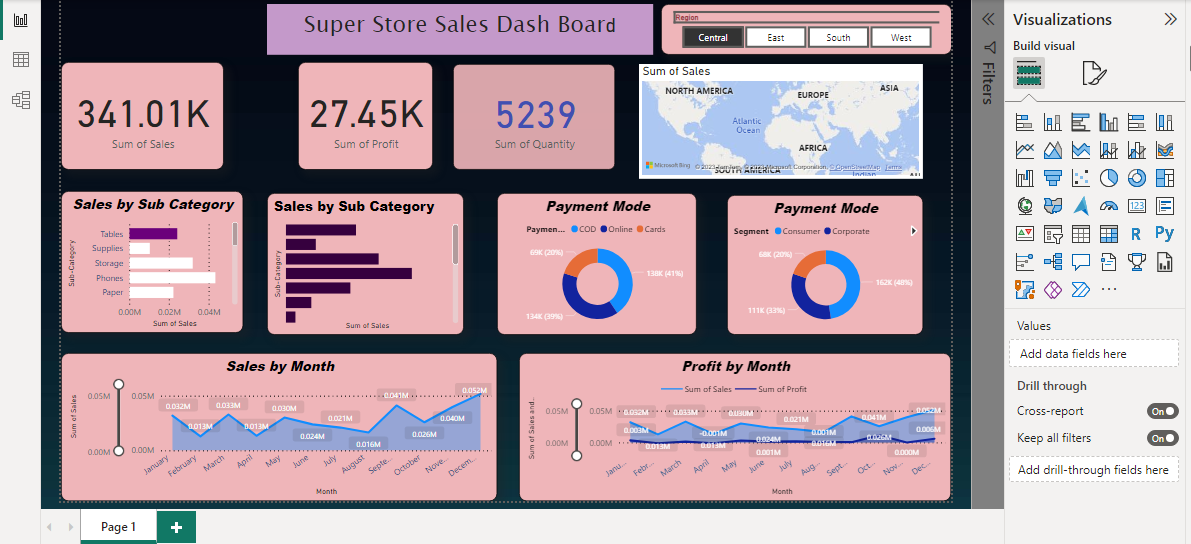

The dashboard page shown, as its layout file describes it:
{"tool":"powerbi","page":{"name":"Page 1","canvas":[1280,720],"ordinal":0},"visuals":[{"type":"clusteredBarChart","title":"Sales by Sub Category","fields":{"Category":["SuperStore_Sales_Dataset.Sub-Category"],"Y":["Sum(SuperStore_Sales_Dataset.Sales)"]},"box":[296,277.4,283.1,204.1],"z":0},{"type":"clusteredBarChart","title":"Sales by Sub Category","fields":{"Category":["SuperStore_Sales_Dataset.Sub-Category"],"Y":["Sum(SuperStore_Sales_Dataset.Sales)"]},"box":[0,274.5,261.6,204.1],"z":1000},{"type":"card","title":"Sales ship mode ","fields":{"Values":["Sum(SuperStore_Sales_Dataset.Sales)"]},"box":[0,89.1,234.3,155.2],"z":2000},{"type":"areaChart","title":"Sales by Month","fields":{"Category":["SuperStore_Sales_Dataset.Order Date.Variation.Date Hierarchy.Month"],"Y":["Sum(SuperStore_Sales_Dataset.Sales)"]},"box":[0,507.3,626.6,212.7],"z":3000},{"type":"areaChart","title":" Profit by Month","fields":{"Category":["SuperStore_Sales_Dataset.Order Date.Variation.Date Hierarchy.Month"],"Y":["Sum(SuperStore_Sales_Dataset.Sales)","Sum(SuperStore_Sales_Dataset.Profit)"]},"box":[658.2,507.3,620.8,212.7],"z":4000},{"type":"donutChart","title":" Payment Mode","fields":{"Y":["Sum(SuperStore_Sales_Dataset.Sales)"],"Category":["SuperStore_Sales_Dataset.Payment Mode"]},"box":[626.6,277.4,287.4,204.1],"z":5000},{"type":"donutChart","title":" Payment Mode","fields":{"Y":["Sum(SuperStore_Sales_Dataset.Sales)"],"Category":["SuperStore_Sales_Dataset.Segment"]},"box":[957.1,280.2,281.7,201.2],"z":6000},{"type":"slicer","fields":{"Values":["SuperStore_Sales_Dataset.Region"]},"box":[862.3,5.7,418.2,73.3],"z":7000},{"type":"card","fields":{"Values":["Sum(SuperStore_Sales_Dataset.Profit)"]},"box":[340.6,89.1,194,155.2],"z":8000},{"type":"card","fields":{"Values":["Sum(SuperStore_Sales_Dataset.Quantity)"]},"box":[563.4,92,232.8,152.3],"z":9000},{"type":"textbox","box":[296,5.7,554.7,73.3],"z":10000},{"type":"map","fields":{"Size":["Sum(SuperStore_Sales_Dataset.Sales)"]},"box":[830.7,92,408.1,165.3],"z":11000}]}

Visuals, with their boxes on the page's 1280x720 design canvas (x1, y1, x2, y2). These are canvas units, not pixel positions in the 1191x544 screenshot, which may show the page scaled, cropped or inside an application window:
"Sales by Sub Category" clusteredBarChart: region(296, 277, 579, 482)
"Sales by Sub Category" clusteredBarChart: region(0, 274, 262, 479)
"Sales ship mode " card: region(0, 89, 234, 244)
"Sales by Month" areaChart: region(0, 507, 627, 720)
" Profit by Month" areaChart: region(658, 507, 1279, 720)
" Payment Mode" donutChart: region(627, 277, 914, 482)
" Payment Mode" donutChart: region(957, 280, 1239, 481)
slicer - SuperStore_Sales_Dataset.Region: region(862, 6, 1280, 79)
card - Sum(SuperStore_Sales_Dataset.Profit): region(341, 89, 535, 244)
card - Sum(SuperStore_Sales_Dataset.Quantity): region(563, 92, 796, 244)
textbox: region(296, 6, 851, 79)
map - Sum(SuperStore_Sales_Dataset.Sales): region(831, 92, 1239, 257)
